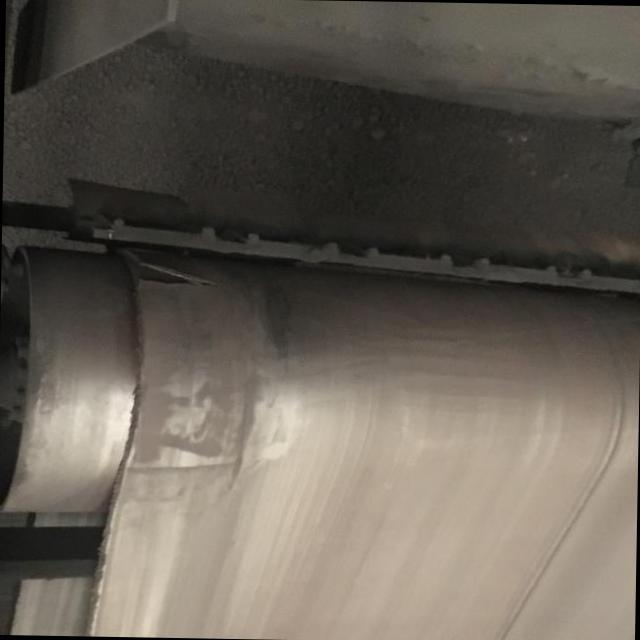Tear: (109, 244, 230, 311)
